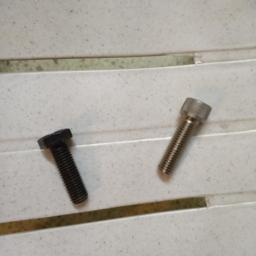screwtype1silver: (155, 91, 213, 179)
screwtype2black: (36, 124, 91, 206)
